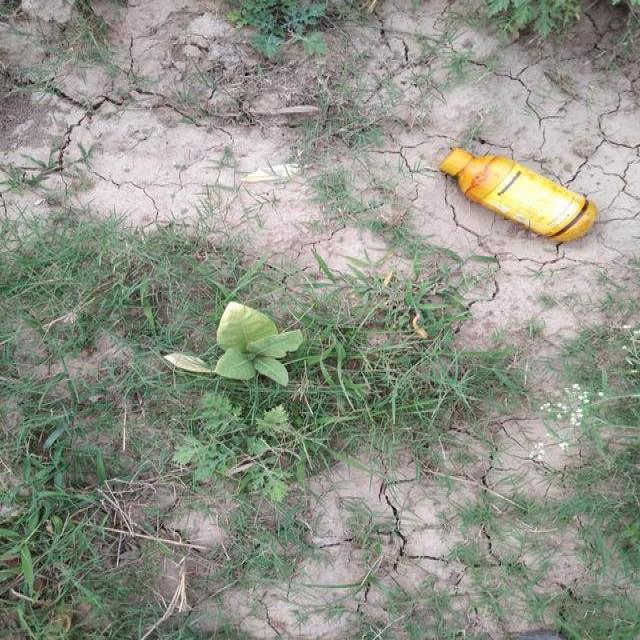crop: (203, 294, 314, 398)
